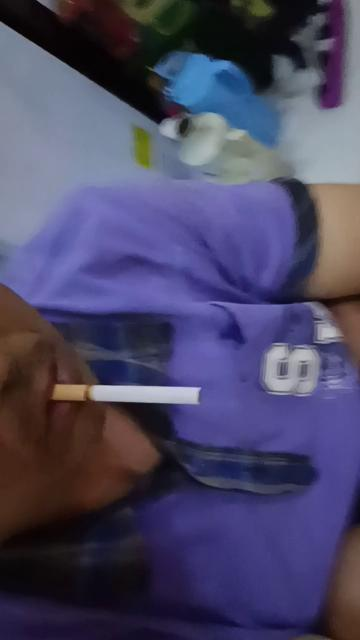Smoking: (52, 382, 202, 406)
